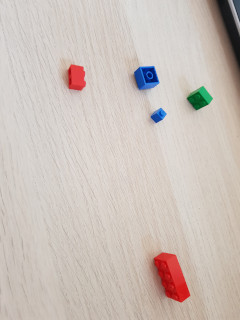1x1 blue: (150, 107, 166, 123)
1x2 red: (67, 64, 86, 92)
2x2 blue: (135, 66, 161, 91)
2x2 green: (185, 86, 213, 111)
2x4 red: (155, 252, 191, 304)
